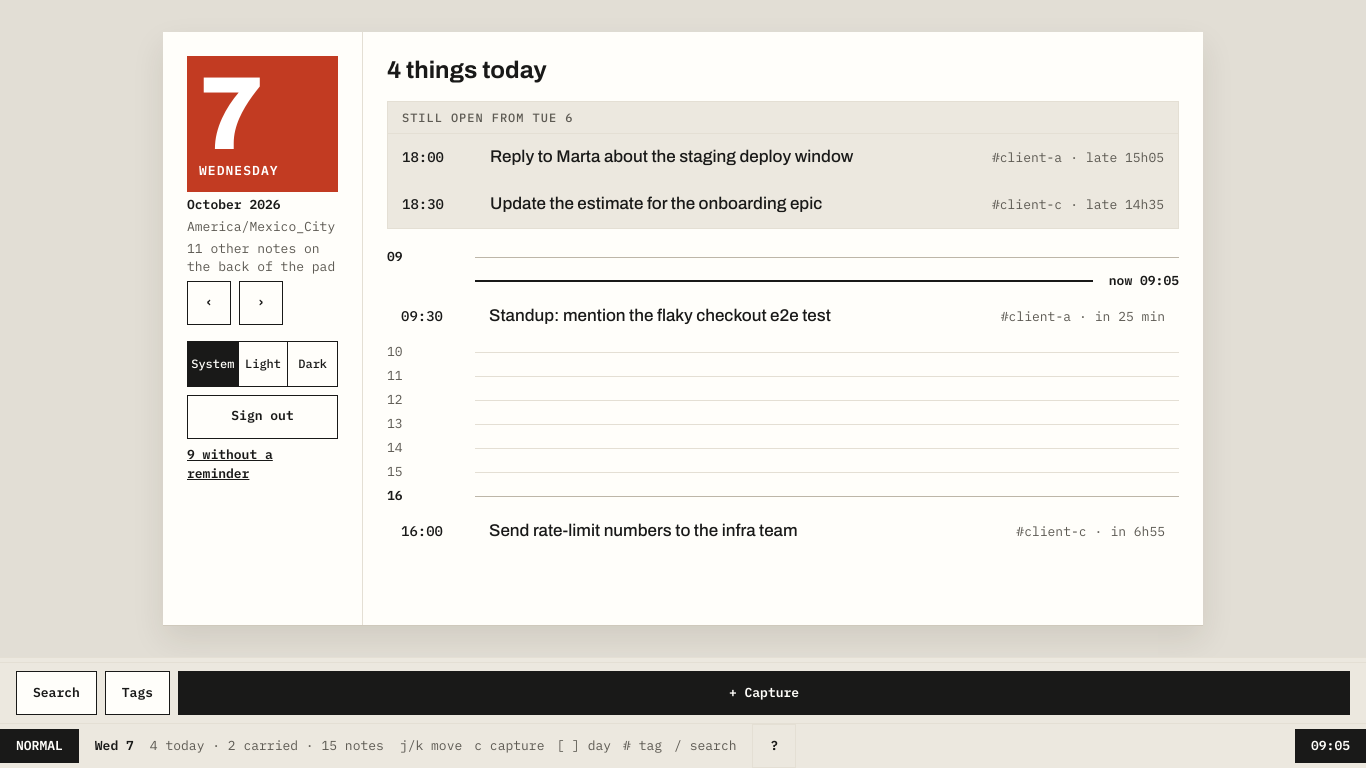
Test: opens from the mobile Search button
The image size is (1366, 768).
What coordinates should you click on to do the following:
click the button "Search"
I would click on:
 (56, 693)
Its box is [16,671,97,715].
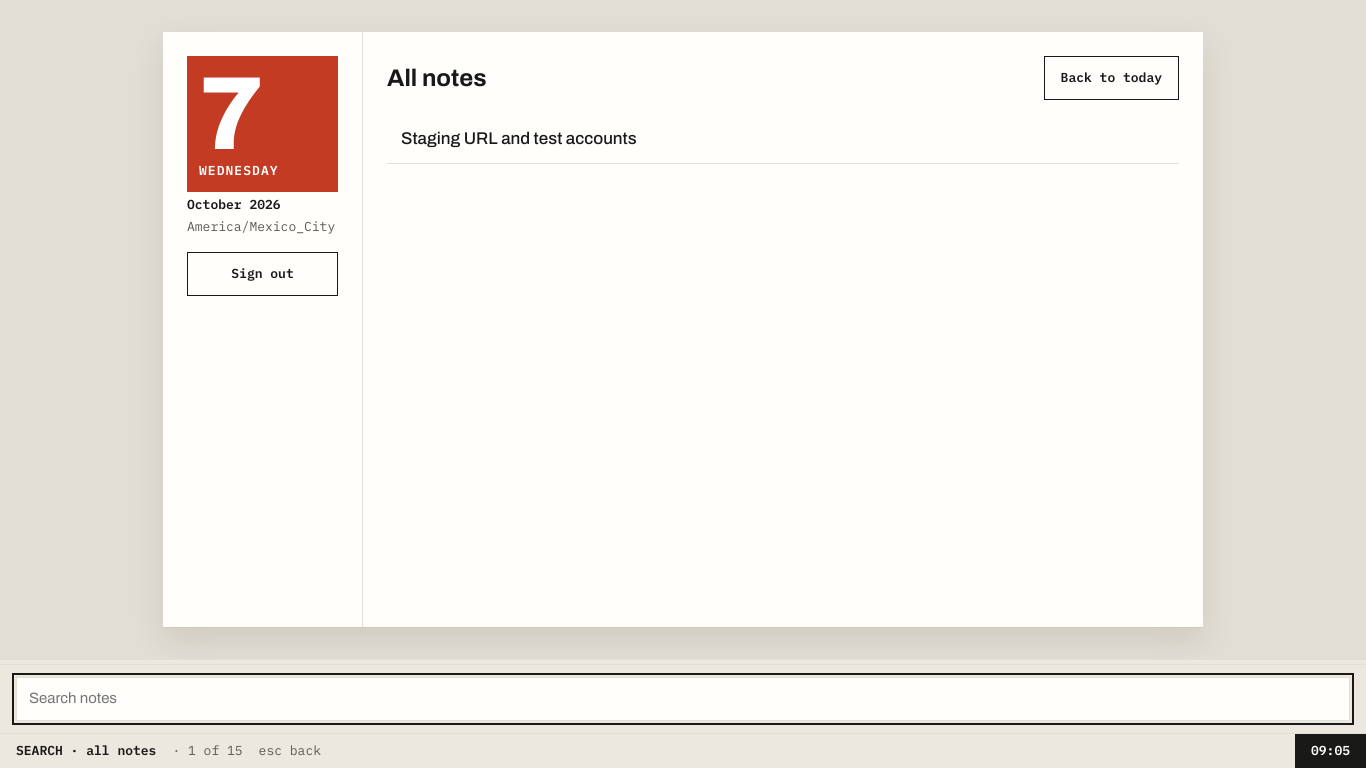
Expected: the field named "Search your notes" is shown, [16,677,1350,721]
